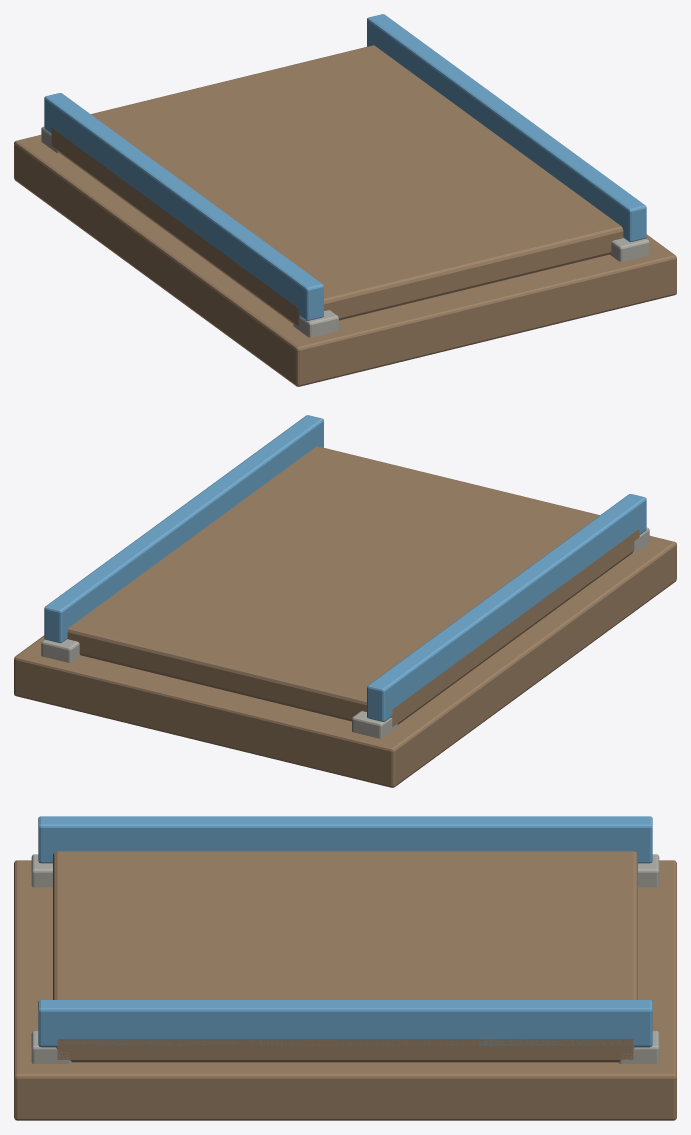
The model's file is bridge.glb.
3 renders of one model, top to bottom at view 1: azimuth 30°, elevation 25°; view 2: azimuth 150°, elevation 25°; view 3: azimuth 270°, elevation 25°, orthographic. The views are drawn at different scales.
Parts seen in each view (by area): view 1: GEO_Deck, GEO_Underbody, GEO_Rail_L, GEO_Rail_R, GEO_Post_FL, GEO_Post_FR; view 2: GEO_Deck, GEO_Underbody, GEO_Rail_L, GEO_Rail_R, GEO_Post_BL, GEO_Post_BR; view 3: GEO_Deck, GEO_Underbody, GEO_Rail_R, GEO_Rail_L, GEO_Post_FR, GEO_Post_BR, GEO_Post_BL, GEO_Post_FL.
Part boxes in pixels (x1=…): GEO_Deck: x1=51, y1=45, x2=623, y2=325; GEO_Underbody: x1=14, y1=135, x2=676, y2=386; GEO_Rail_L: x1=44, y1=93, x2=323, y2=320; GEO_Rail_R: x1=367, y1=14, x2=646, y2=242; GEO_Post_FL: x1=293, y1=310, x2=338, y2=337; GEO_Post_FR: x1=610, y1=238, x2=649, y2=261; GEO_Deck: x1=67, y1=446, x2=639, y2=726; GEO_Underbody: x1=14, y1=536, x2=676, y2=787; GEO_Rail_L: x1=367, y1=494, x2=646, y2=721; GEO_Rail_R: x1=44, y1=415, x2=323, y2=643; GEO_Post_BL: x1=352, y1=711, x2=397, y2=738; GEO_Post_BR: x1=41, y1=639, x2=80, y2=662; GEO_Deck: x1=53, y1=851, x2=637, y2=1062; GEO_Underbody: x1=14, y1=860, x2=676, y2=1120; GEO_Rail_R: x1=38, y1=1000, x2=652, y2=1047; GEO_Rail_L: x1=38, y1=816, x2=652, y2=863; GEO_Post_FR: x1=31, y1=1031, x2=72, y2=1063; GEO_Post_BR: x1=618, y1=1031, x2=659, y2=1063; GEO_Post_BL: x1=638, y1=854, x2=659, y2=887; GEO_Post_FL: x1=31, y1=854, x2=52, y2=887.
Size of the model in its own units: 3.8 by 0.83 by 4.92.
